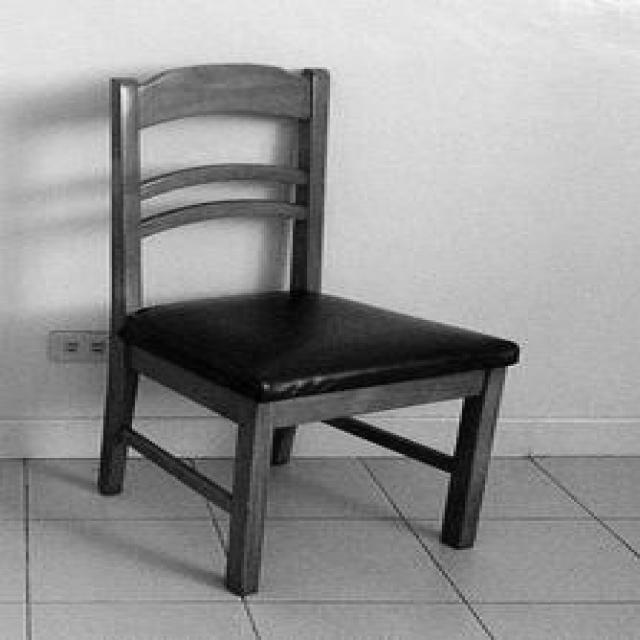chair: (88, 58, 527, 593)
